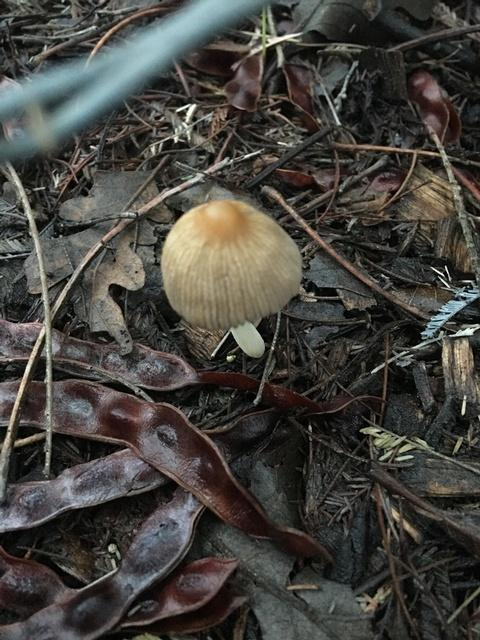Edible Mushroom: (159, 197, 303, 359)
